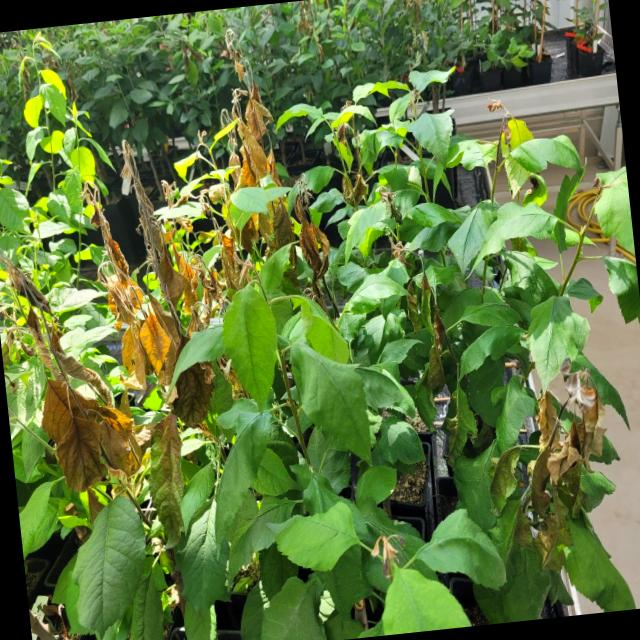-FireBlight-: (0, 52, 339, 545), (490, 362, 606, 562)
